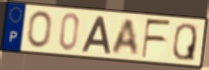0: (58, 12, 81, 52)
A: (80, 15, 112, 55), (110, 18, 140, 57)
F: (140, 18, 172, 60)
O: (26, 9, 53, 49)
Q: (171, 22, 198, 63)
